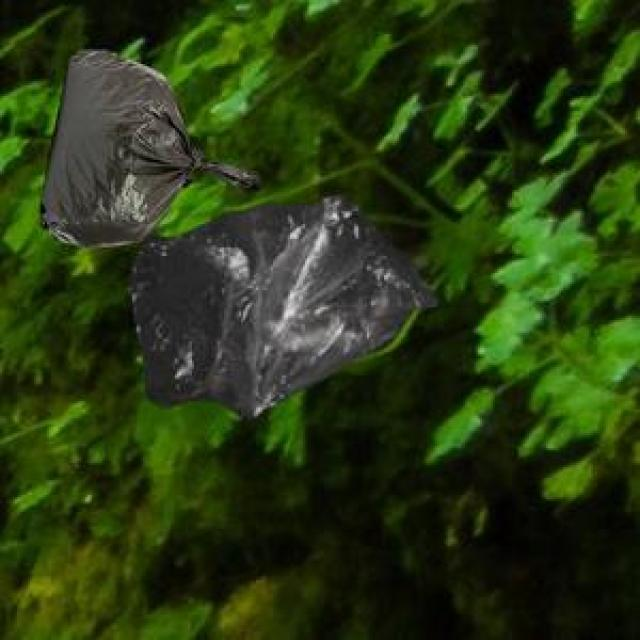miscellaneous trash: (36, 47, 258, 243)
